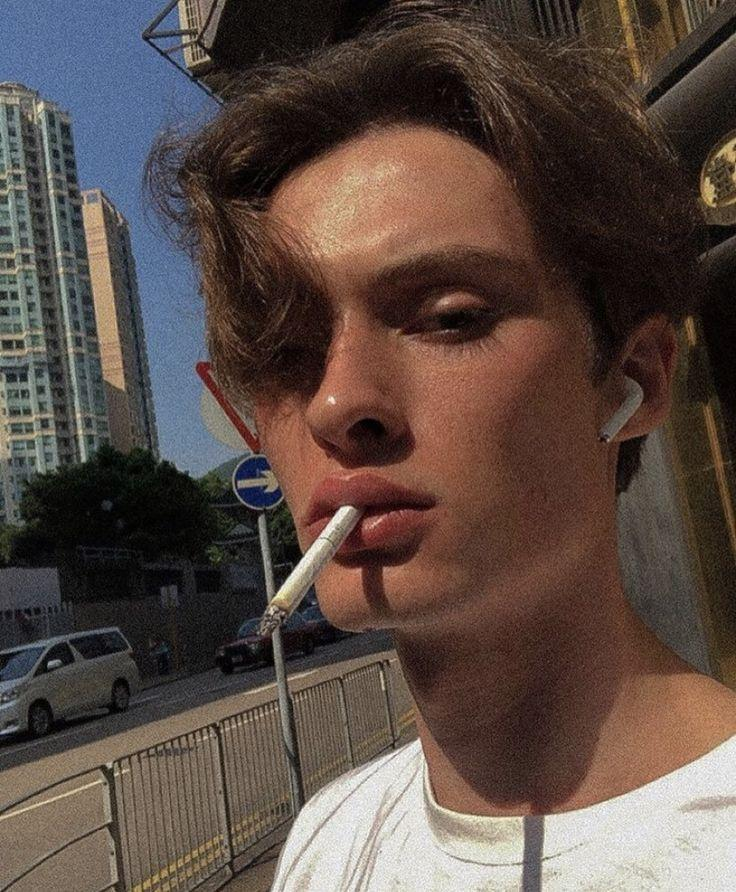cigarette: (257, 504, 366, 638)
